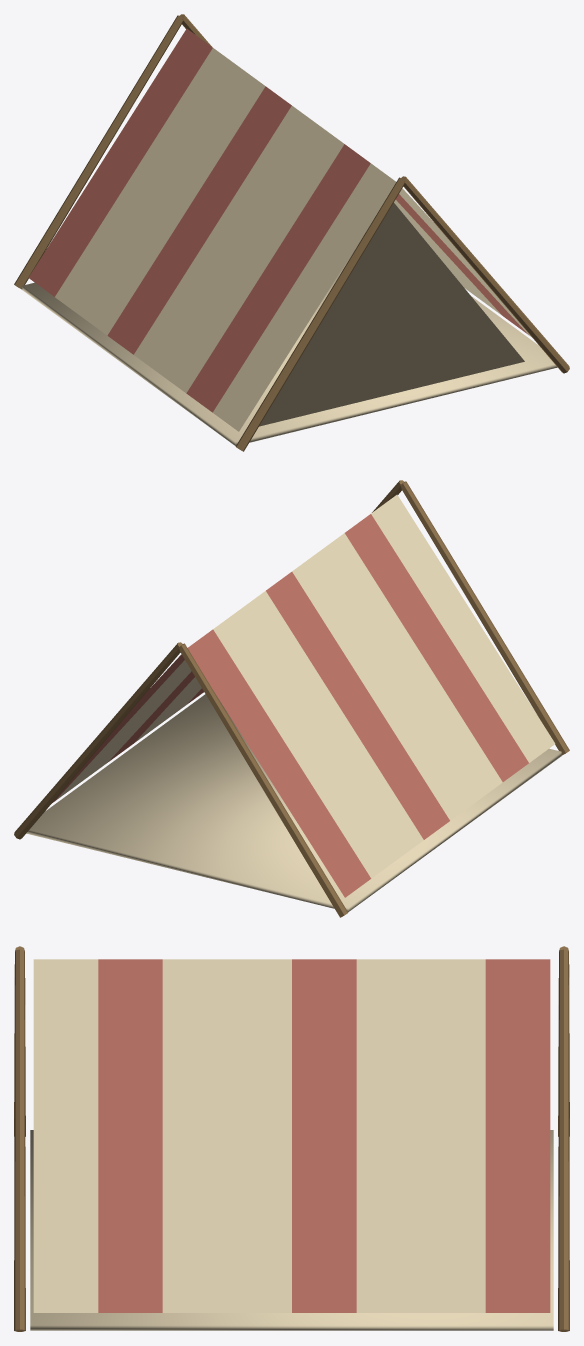
The model's file is tent.glb.
3 renders of one model, top to bottom at view 1: azimuth 30°, elevation 25°; view 2: azimuth 150°, elevation 25°; view 3: azimuth 270°, elevation 25°, orthographic. The views are drawn at different scales.
Parts seen in each view (by area): view 1: tent__Tent_linen, tent__Tent_stripe, tent__Tent_interior, tent__Tent_poles; view 2: tent__Tent_linen, tent__Tent_stripe, tent__Tent_poles; view 3: tent__Tent_linen, tent__Tent_stripe, tent__Tent_poles.
Boxes of the visible parts, bbox=[...] form: tent__Tent_linen: bbox=[22, 48, 557, 445]; tent__Tent_stripe: bbox=[28, 28, 528, 412]; tent__Tent_interior: bbox=[259, 202, 524, 426]; tent__Tent_poles: bbox=[14, 14, 569, 451]; tent__Tent_linen: bbox=[26, 494, 561, 911]; tent__Tent_stripe: bbox=[52, 514, 528, 897]; tent__Tent_poles: bbox=[14, 480, 569, 917]; tent__Tent_linen: bbox=[30, 959, 553, 1330]; tent__Tent_stripe: bbox=[98, 959, 550, 1312]; tent__Tent_poles: bbox=[14, 946, 569, 1331].
Size of the model in its own units: 3.47 by 2.34 by 4.09.
